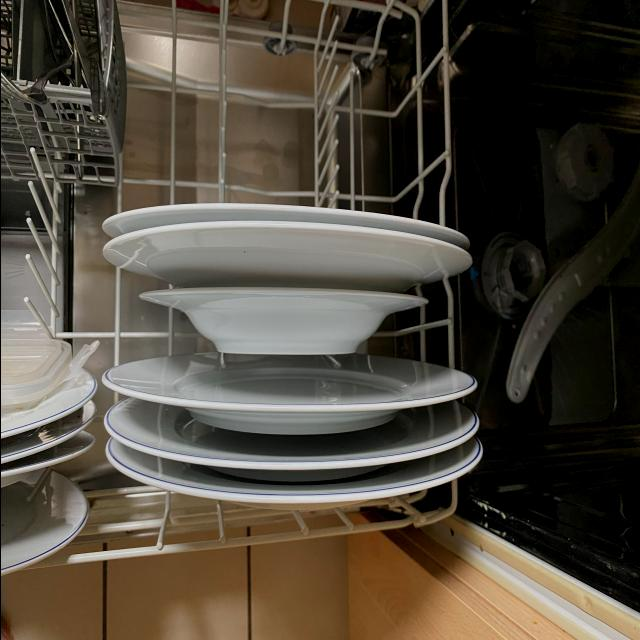clutery_bin: (14, 5, 108, 100)
empty_slot: (150, 14, 440, 192)
